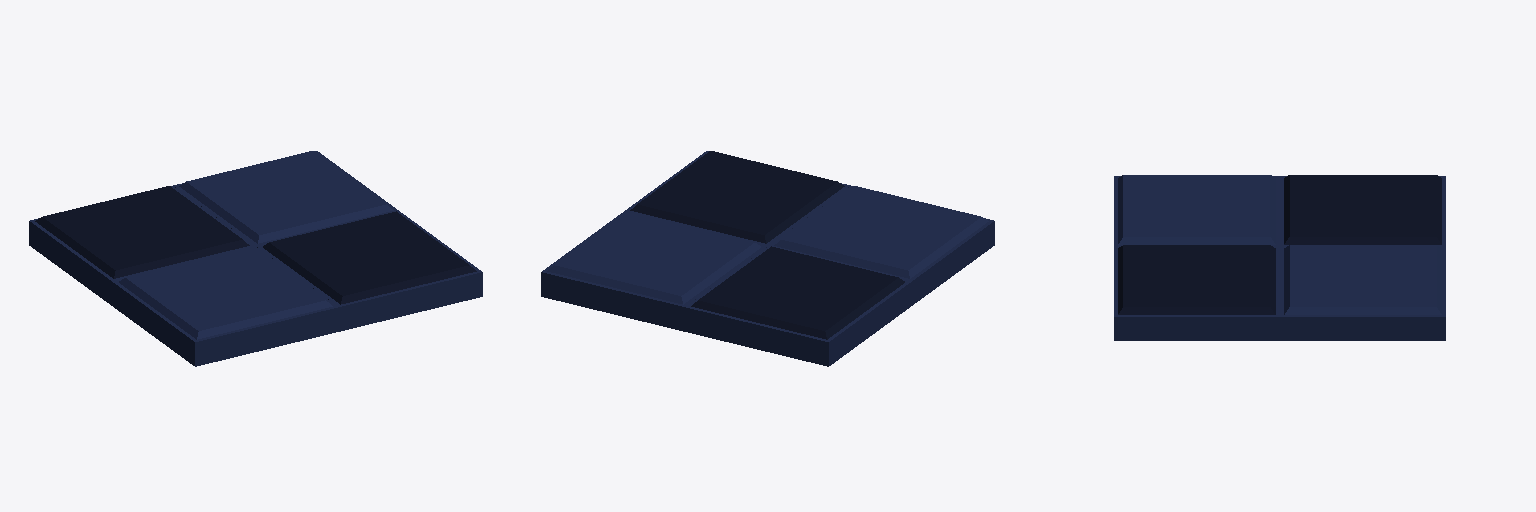
File: tile2.obj
The picture shows the model from 3 angles: view 1: azimuth 30°, elevation 25°; view 2: azimuth 150°, elevation 25°; view 3: azimuth 270°, elevation 25°; orthographic projection.
Parts seen in each view (by area): view 1: floor.001_dark_grey_0; view 2: floor.001_dark_grey_0; view 3: floor.001_dark_grey_0.
Boxes of the visible parts, <box> form: floor.001_dark_grey_0: <box>29,151,482,366</box>; floor.001_dark_grey_0: <box>541,151,994,366</box>; floor.001_dark_grey_0: <box>1114,175,1445,340</box>.
Size of the model in its own units: 1 by 0.1 by 1.